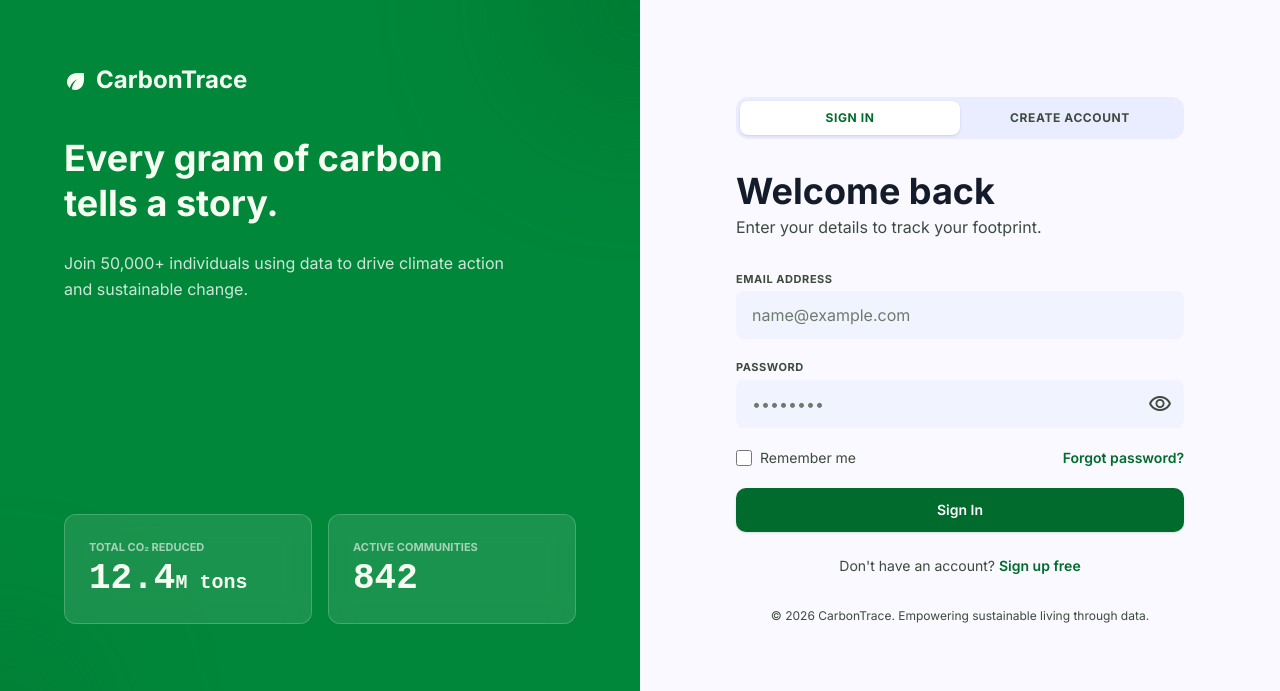
Scenario: RegisterForm › shows error when required fields are missing
Click the tab "Create Account" at (1070, 118), box [960, 100, 1180, 134]
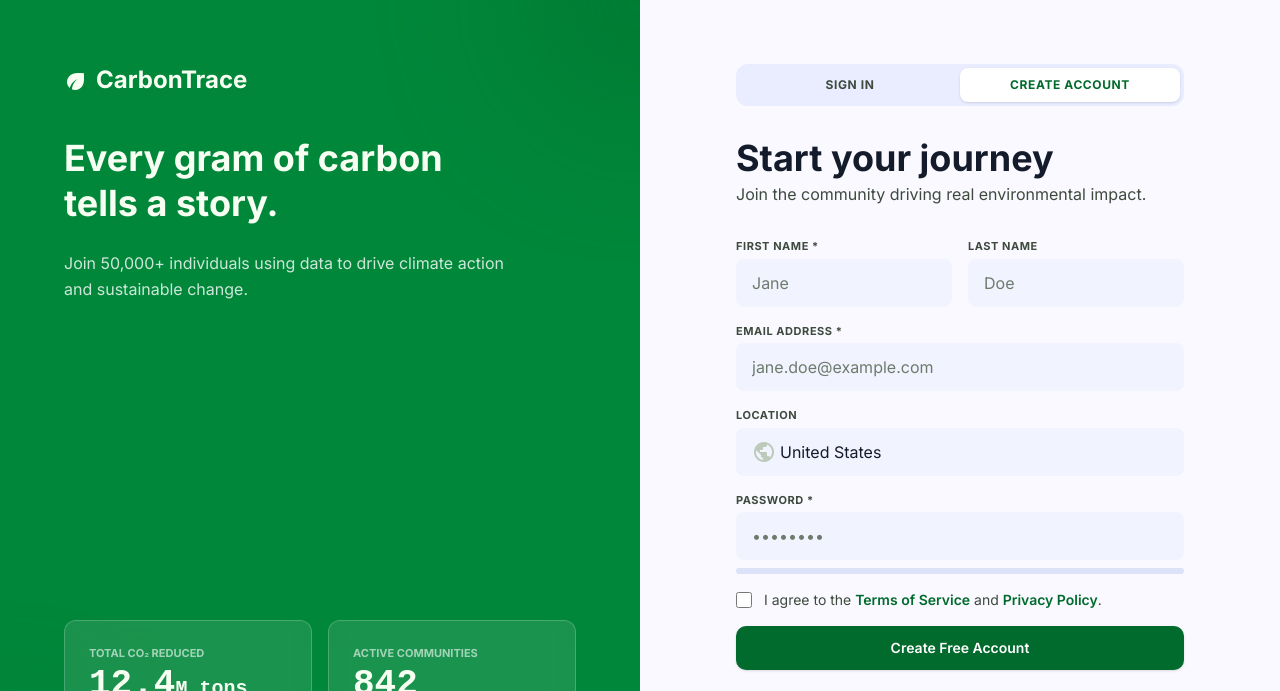
Click the button "Create Free Account" at (960, 648), box [736, 626, 1184, 670]
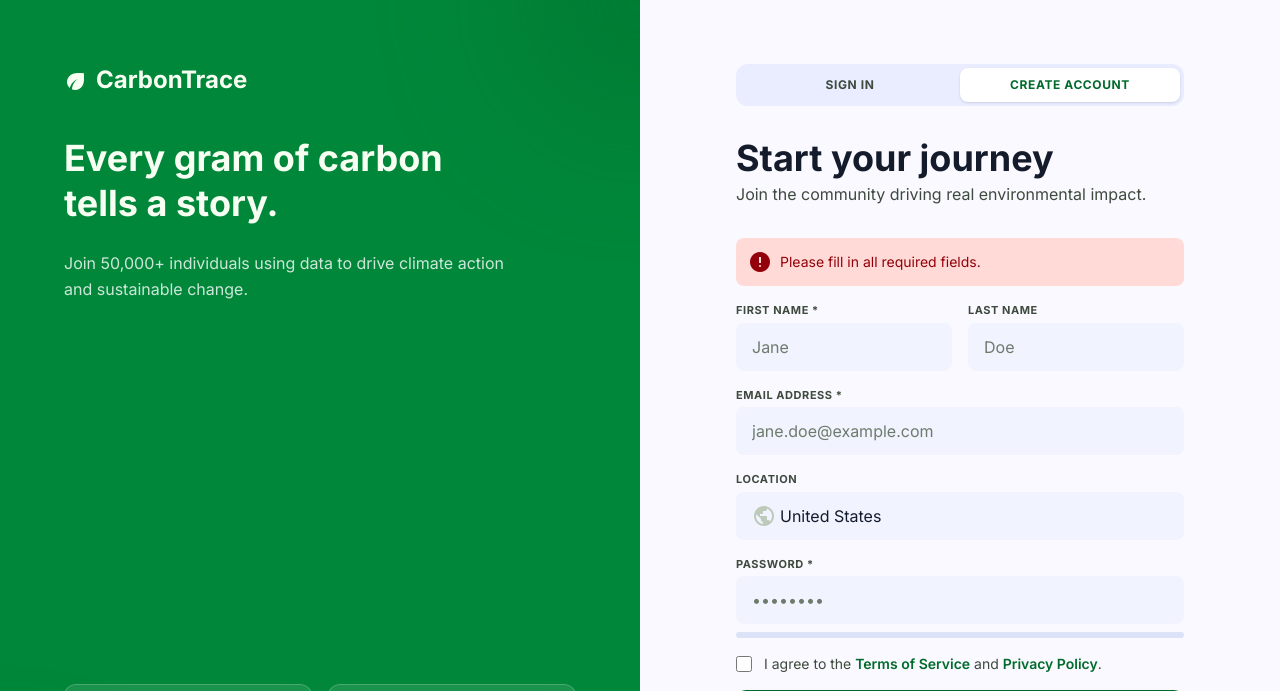
Now the message "Please fill in all required fields." is shown, box [736, 238, 1184, 286]
